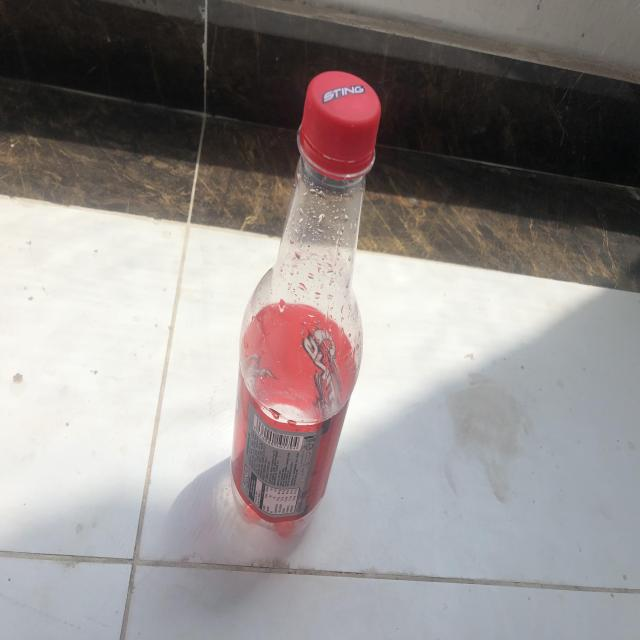plastic bottle: (230, 71, 382, 546)
